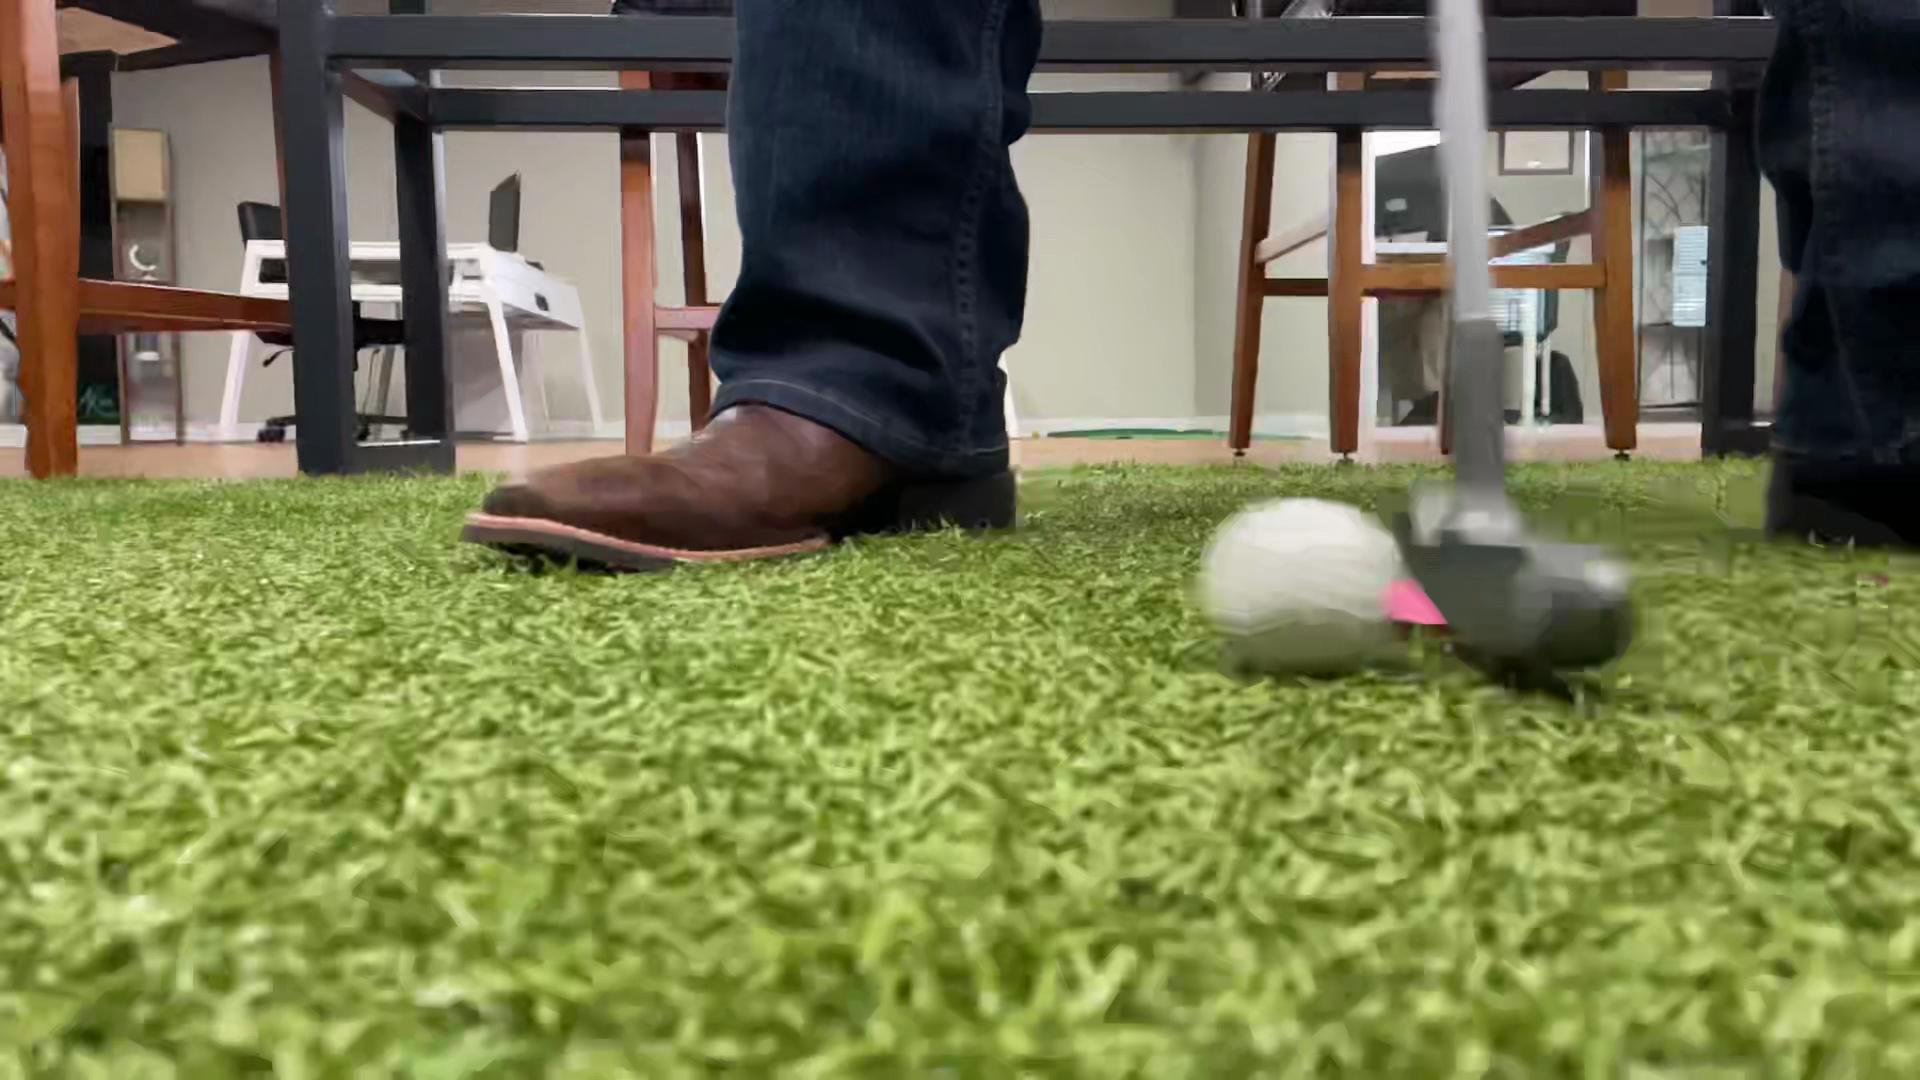golfball: (1197, 501, 1408, 675)
